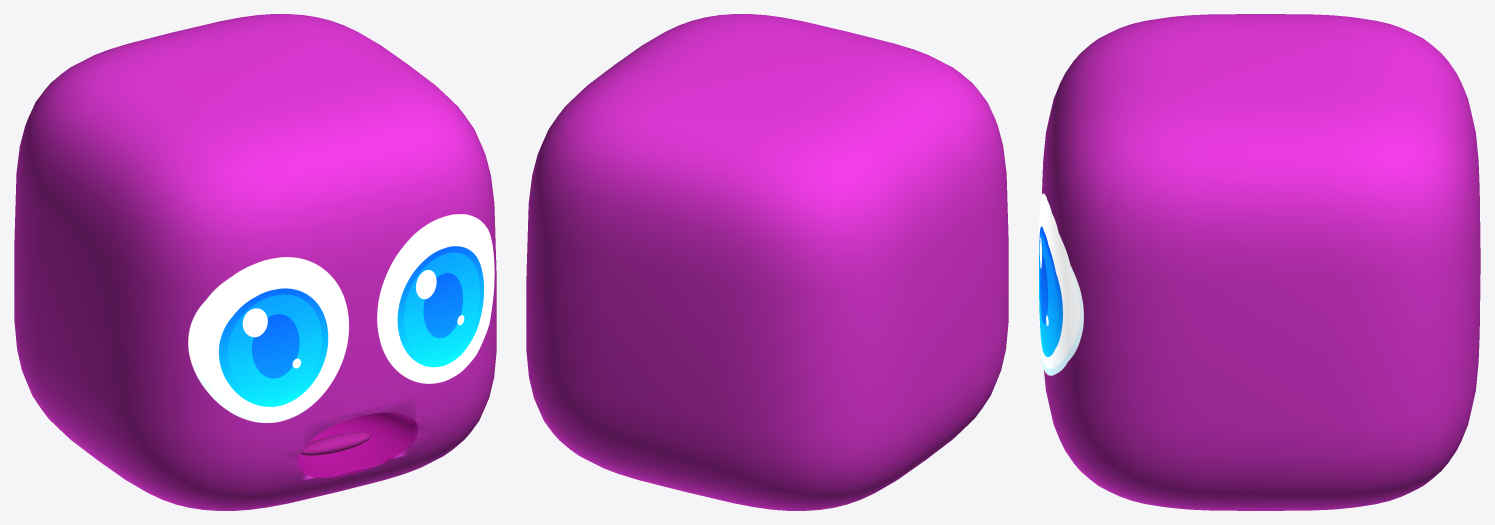
Rendered from slime_pink.glb.
3 views of the same model, side by side, from view 1: azimuth 30°, elevation 25°; view 2: azimuth 150°, elevation 25°; view 3: azimuth 270°, elevation 25° (orthographic). The views are drawn at different scales.
Parts seen in each view (by area): view 1: Slime_Pink; view 2: Slime_Pink; view 3: Slime_Pink.
Boxes of the visible parts, bbox=[...] form: Slime_Pink: bbox=[14, 14, 496, 510]; Slime_Pink: bbox=[526, 14, 1008, 510]; Slime_Pink: bbox=[1038, 14, 1480, 510].
Bounding box in the file's own units: 0.92 × 0.8968 × 0.92.
Materials: 4 (1 with a texture image).
